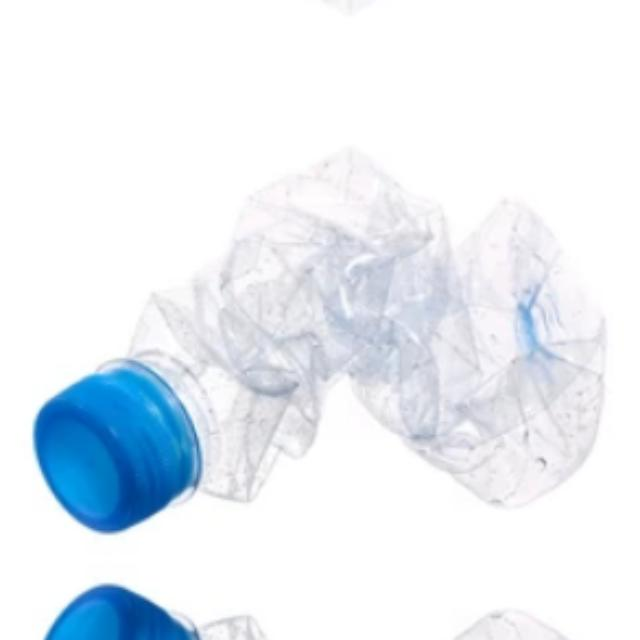Plastic: (31, 116, 621, 542), (31, 575, 621, 640), (31, 0, 621, 43)
